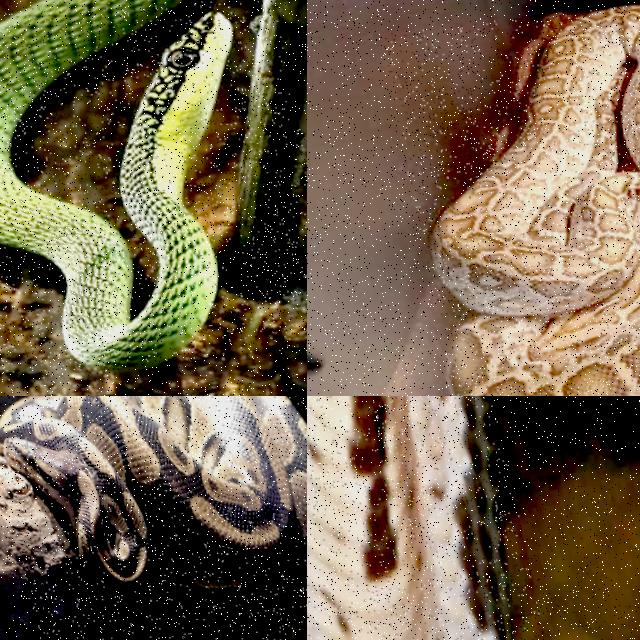Chrysopelea ornata: (0, 0, 228, 370)
Naja siamensis: (307, 396, 510, 639)
Python bivittatus: (434, 6, 639, 395), (0, 396, 306, 639)
snake: (0, 0, 228, 370), (434, 6, 639, 395), (0, 396, 306, 639), (307, 396, 510, 639)
